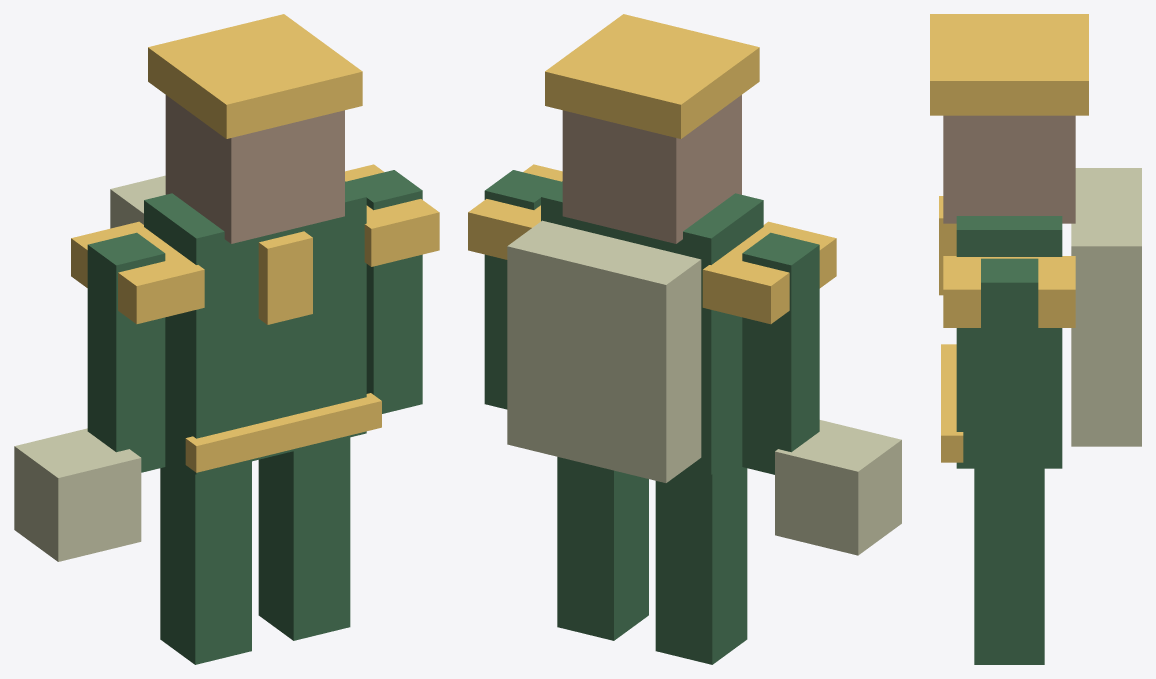
Rendered from 01_sarai_dubwater_pilgrim_from.glb.
3 views of the same model, side by side, from view 1: azimuth 30°, elevation 25°; view 2: azimuth 150°, elevation 25°; view 3: azimuth 270°, elevation 25° (orthographic).
Parts seen in each view (by area): view 1: Sarai Dubwater, Pilgrim from; view 2: Sarai Dubwater, Pilgrim from; view 3: Sarai Dubwater, Pilgrim from.
Boxes of the visible parts, box(x1,y1,x2,y2) form: Sarai Dubwater, Pilgrim from: box(14, 14, 439, 664); Sarai Dubwater, Pilgrim from: box(468, 14, 901, 664); Sarai Dubwater, Pilgrim from: box(930, 14, 1141, 664).
Size of the model in its own units: 1.07 by 1.55 by 0.5142.
